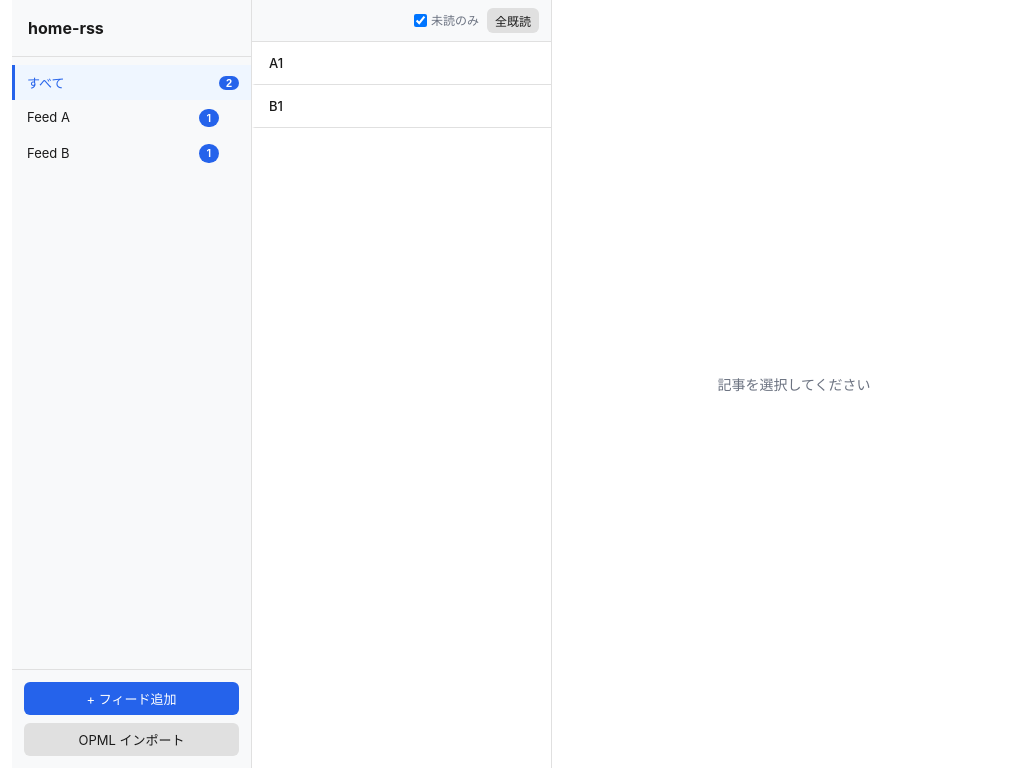
Test: App › marking everything read › reloads the list for the selection made while the server was confirming
Click the button "全既読" at (513, 20), box [487,8,539,33]
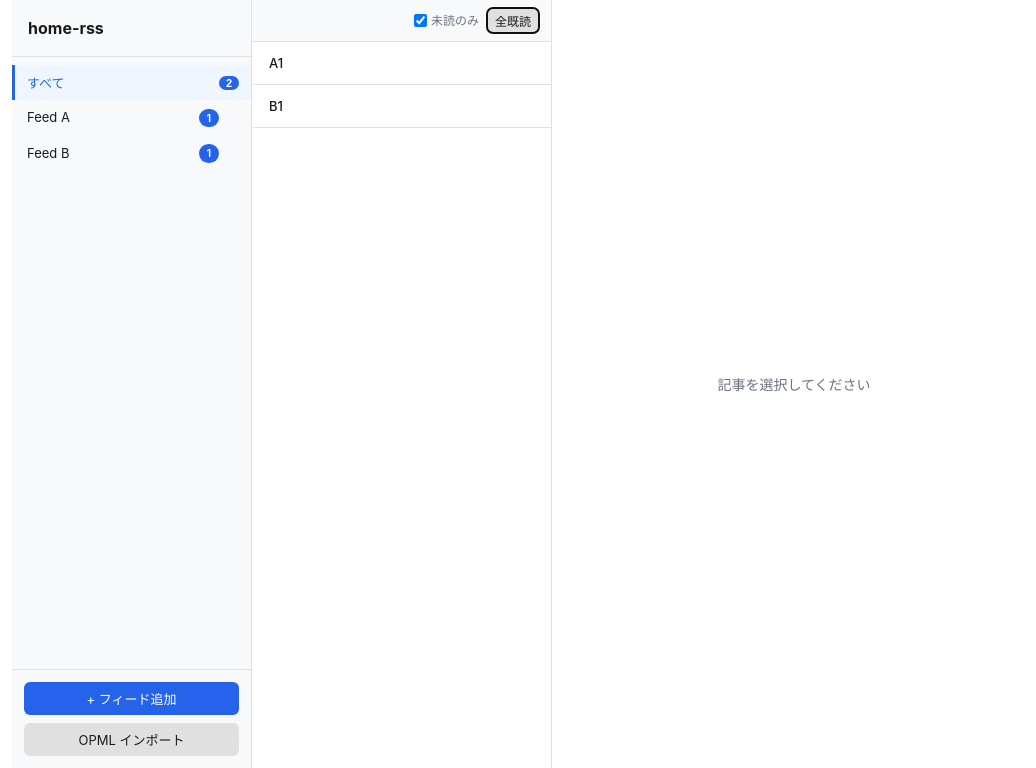
Click the text "Feed B" at (48, 152), box [27,144,70,160]
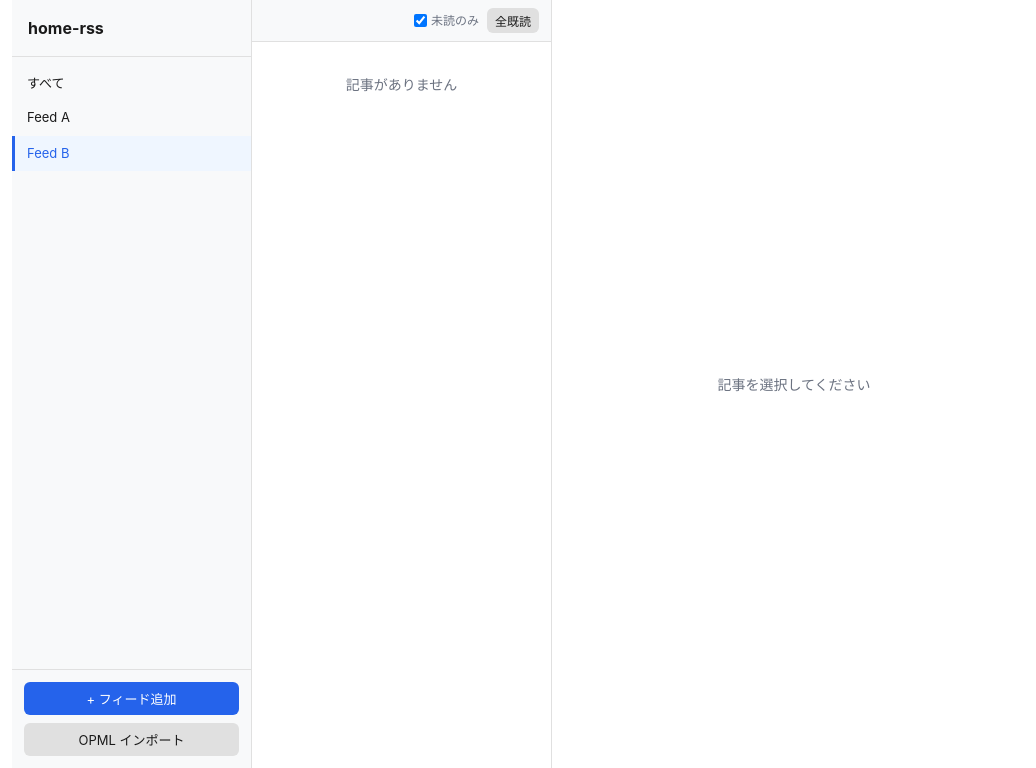
Now the text "記事がありません" is shown, box [346,76,457,93]
